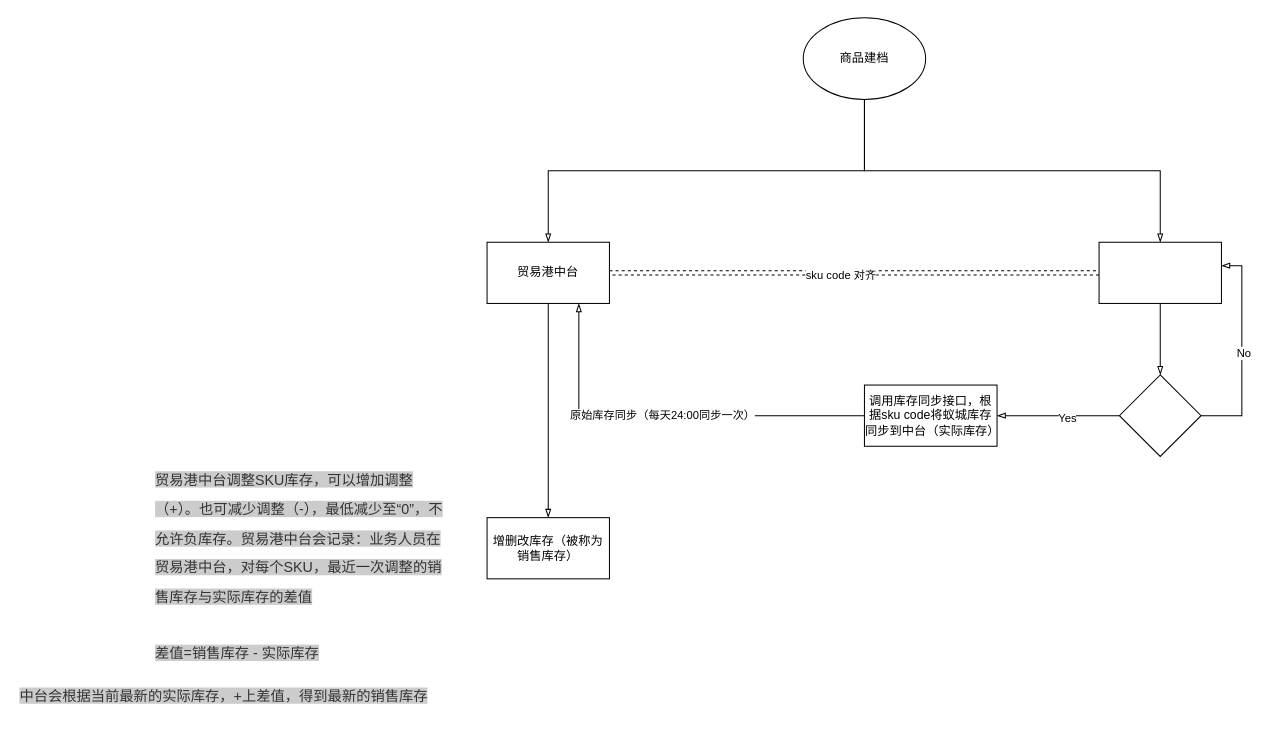
Some shapes in this 1268 by 729 pixel diagram are drawn without their labels. The box of each missing label's shape, as (x1, y1, x2, y2) in pixels:
建档完成: (1118, 374, 1201, 456)
蚁城ERP: (1098, 241, 1221, 303)
